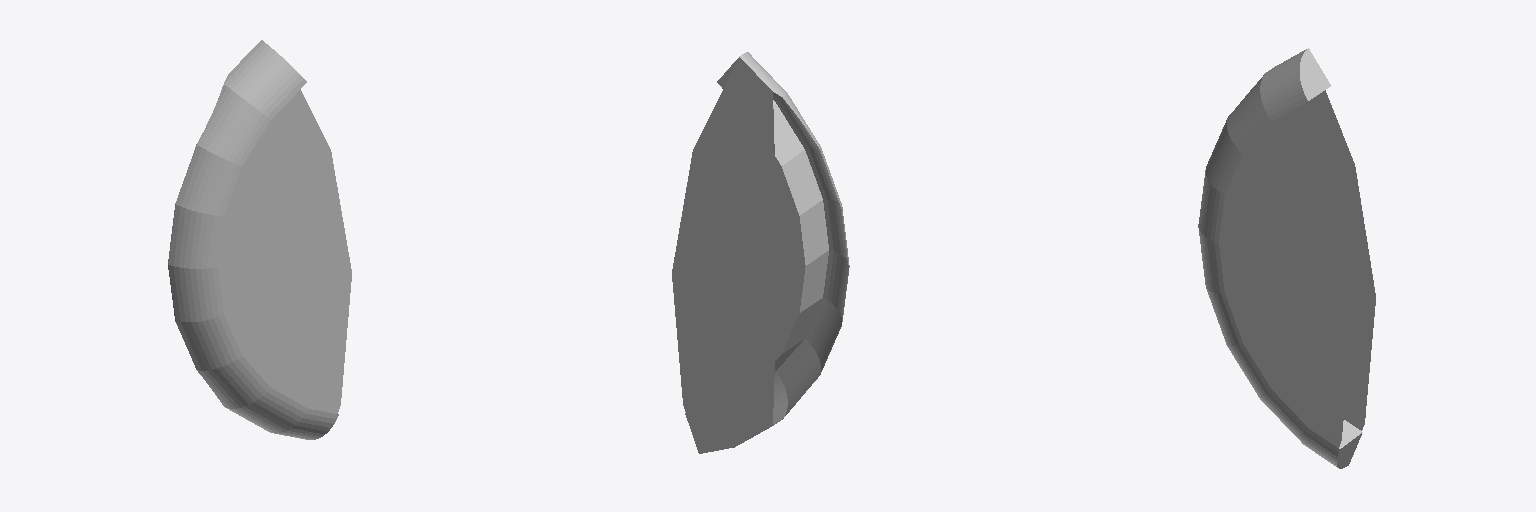
The model's file is original-23.obj.
The picture shows the model from 3 angles: view 1: azimuth 30°, elevation 25°; view 2: azimuth 150°, elevation 25°; view 3: azimuth 330°, elevation 25°; orthographic projection.
Visible parts, largest first — view 1: #ID96; view 2: #ID96; view 3: #ID96.
Part boxes in pixels (x1,y1,x2,y2): #ID96: (168,40,351,439); #ID96: (672,52,849,453); #ID96: (1198,48,1375,468).
Size of the model in its own units: 0.1044 by 0.2401 by 0.0248.